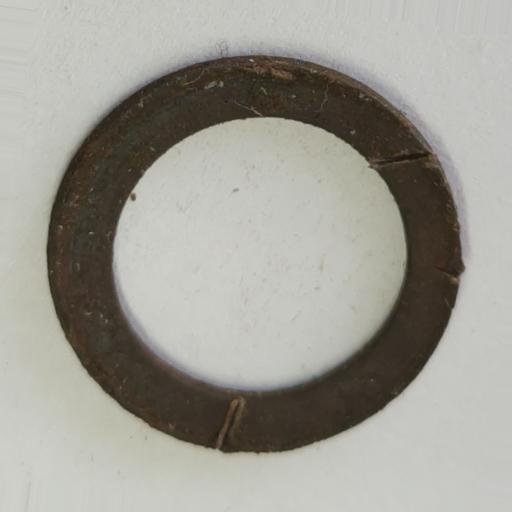defect: (214, 396, 245, 452), (370, 148, 434, 168), (439, 262, 464, 282)
